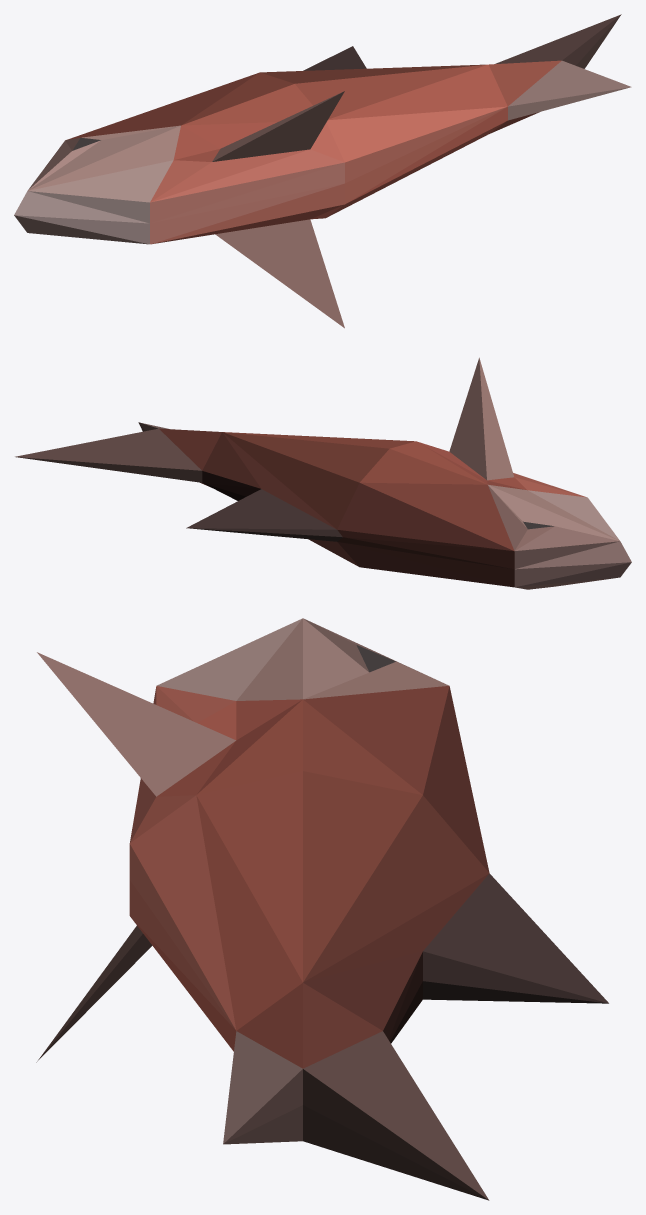
Rendered from salmon.obj.
3 views of the same model, one above another, from view 1: azimuth 30°, elevation 25°; view 2: azimuth 150°, elevation 25°; view 3: azimuth 270°, elevation 25° (orthographic). The views are drawn at different scales.
Visible parts, largest first — view 1: Item Raw salmon 2026-09-20_21-14-35; view 2: Item Raw salmon 2026-09-20_21-14-35; view 3: Item Raw salmon 2026-09-20_21-14-35.
Boxes of the visible parts, <box> form: Item Raw salmon 2026-09-20_21-14-35: <box>14,14,631,328</box>; Item Raw salmon 2026-09-20_21-14-35: <box>15,357,631,589</box>; Item Raw salmon 2026-09-20_21-14-35: <box>36,618,608,1200</box>.
Bounding box in the file's own units: 99 × 34 × 43.
